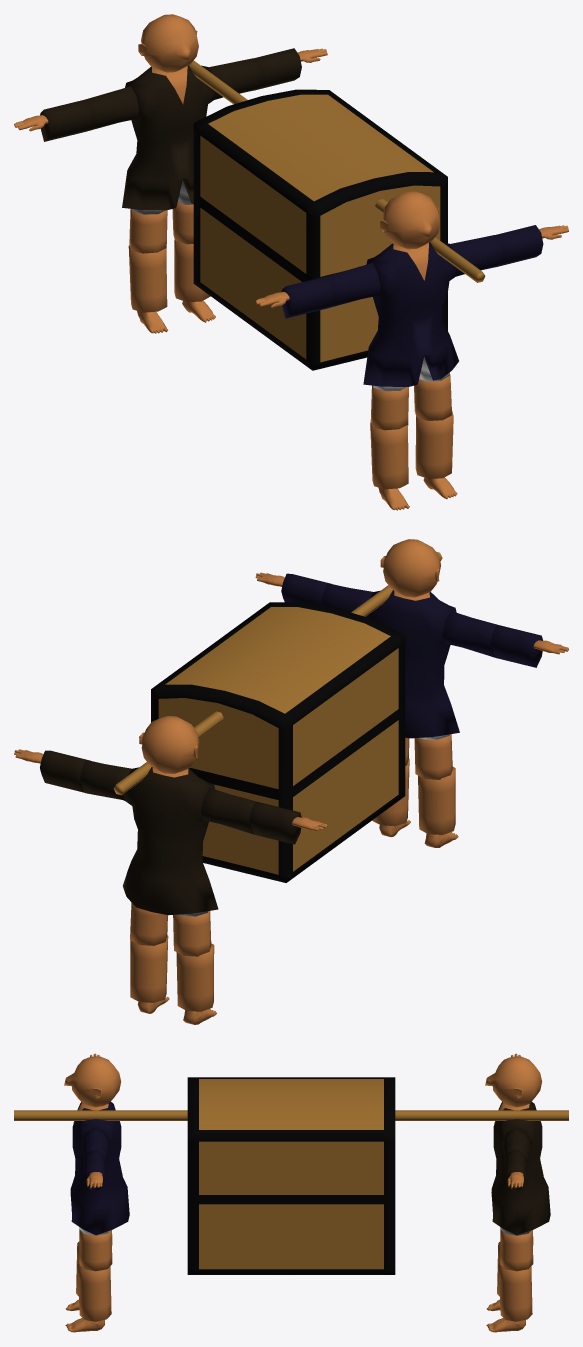
Rendered from Obstacles_High.obj.
The picture shows the model from 3 angles, top to bottom: view 1: azimuth 30°, elevation 25°; view 2: azimuth 150°, elevation 25°; view 3: azimuth 270°, elevation 25°; orthographic projection. The views are drawn at different scales.
Parts seen in each view (by area): view 1: pCylinder1 pCube1, pasted__Karateka_Hip group pasted__Karateka_Body pasted__Karatek, Karateka_Hip Karateka_Body, pasted__Karateka_Hip group pasted__Karateka_Body, Karateka_Hip, pasted__Karateka_Hip group, Karateka_Hip Karateka_Body Karateka_Head, pasted__Karateka_Hip group pasted__Karateka_RightUpLeg pasted__K, Karateka_Hip Karateka_RightUpLeg Karateka_RightLeg, Karateka_Hip Karateka_LeftUpLeg Karateka_LeftLeg, Karateka_Hip Karateka_Body Karateka_RightArm Karateka_RightForeA, pasted__Karateka_Hip group pasted__Karateka_LeftUpLeg pasted__Ka (+8 smaller); view 2: pCylinder1 pCube1, pasted__Karateka_Hip group pasted__Karateka_Body pasted__Karatek, pasted__Karateka_Hip group pasted__Karateka_Body, Karateka_Hip Karateka_Body, pasted__Karateka_Hip group, Karateka_Hip Karateka_Body Karateka_Head, pasted__Karateka_Hip group pasted__Karateka_RightUpLeg pasted__K, Karateka_Hip, pasted__Karateka_Hip group pasted__Karateka_LeftUpLeg pasted__Ka, Karateka_Hip Karateka_RightUpLeg Karateka_RightLeg, Karateka_Hip Karateka_Body Karateka_RightArm Karateka_RightForeA, Karateka_Hip Karateka_Body Karateka_RightArm (+7 smaller); view 3: pCylinder1 pCube1, pCylinder1, pasted__Karateka_Hip group pasted__Karateka_Body pasted__Karatek, Karateka_Hip, pasted__Karateka_Hip group, pasted__Karateka_Hip group pasted__Karateka_LeftUpLeg pasted__Ka, pasted__Karateka_Hip group pasted__Karateka_Body, Karateka_Hip Karateka_Body, Karateka_Hip Karateka_Body Karateka_Head, Karateka_Hip Karateka_LeftUpLeg Karateka_LeftLeg, Karateka_Hip Karateka_LeftUpLeg, pasted__Karateka_Hip group pasted__Karateka_LeftUpLeg (+3 smaller).
Boxes of the visible parts, x1,y1,x2,y2 form: pCylinder1 pCube1: (193, 89, 447, 370); pasted__Karateka_Hip group pasted__Karateka_Body pasted__Karatek: (14, 14, 327, 141); Karateka_Hip Karateka_Body: (366, 242, 457, 339); pasted__Karateka_Hip group pasted__Karateka_Body: (125, 65, 216, 162); Karateka_Hip: (363, 321, 458, 391); pasted__Karateka_Hip group: (122, 154, 193, 214); Karateka_Hip Karateka_Body Karateka_Head: (380, 191, 440, 249); pasted__Karateka_Hip group pasted__Karateka_RightUpLeg pasted__K: (128, 245, 167, 333); Karateka_Hip Karateka_RightUpLeg Karateka_RightLeg: (370, 422, 408, 489); Karateka_Hip Karateka_LeftUpLeg Karateka_LeftLeg: (415, 411, 453, 478); Karateka_Hip Karateka_Body Karateka_RightArm Karateka_RightForeA: (255, 276, 333, 318); pasted__Karateka_Hip group pasted__Karateka_LeftUpLeg pasted__Ka: (174, 240, 215, 322); pCylinder1 pCube1: (151, 602, 405, 882); pasted__Karateka_Hip group pasted__Karateka_Body pasted__Karatek: (14, 716, 327, 844); pasted__Karateka_Hip group pasted__Karateka_Body: (123, 767, 214, 865); Karateka_Hip Karateka_Body: (366, 590, 456, 689); pasted__Karateka_Hip group: (123, 849, 218, 916); Karateka_Hip Karateka_Body Karateka_Head: (380, 539, 440, 597); pasted__Karateka_Hip group pasted__Karateka_RightUpLeg pasted__K: (176, 943, 216, 1024); Karateka_Hip: (405, 684, 459, 739); pasted__Karateka_Hip group pasted__Karateka_LeftUpLeg pasted__Ka: (130, 935, 169, 1013); Karateka_Hip Karateka_RightUpLeg Karateka_RightLeg: (418, 767, 455, 834); Karateka_Hip Karateka_Body Karateka_RightArm Karateka_RightForeA: (491, 625, 568, 667); Karateka_Hip Karateka_Body Karateka_RightArm: (442, 611, 500, 657); pCylinder1 pCube1: (187, 1077, 395, 1274); pCylinder1: (14, 1110, 568, 1120); pasted__Karateka_Hip group pasted__Karateka_Body pasted__Karatek: (485, 1053, 542, 1193); Karateka_Hip: (70, 1176, 129, 1235); pasted__Karateka_Hip group: (491, 1176, 550, 1235); pasted__Karateka_Hip group pasted__Karateka_LeftUpLeg pasted__Ka: (486, 1263, 532, 1332); pasted__Karateka_Hip group pasted__Karateka_Body: (493, 1101, 543, 1188); Karateka_Hip Karateka_Body: (72, 1101, 122, 1188); Karateka_Hip Karateka_Body Karateka_Head: (64, 1056, 121, 1107); Karateka_Hip Karateka_LeftUpLeg Karateka_LeftLeg: (77, 1263, 111, 1321); Karateka_Hip Karateka_LeftUpLeg: (79, 1229, 112, 1271); pasted__Karateka_Hip group pasted__Karateka_LeftUpLeg: (500, 1229, 533, 1271).
Bounding box in the file's own units: 182 × 167 × 321.
